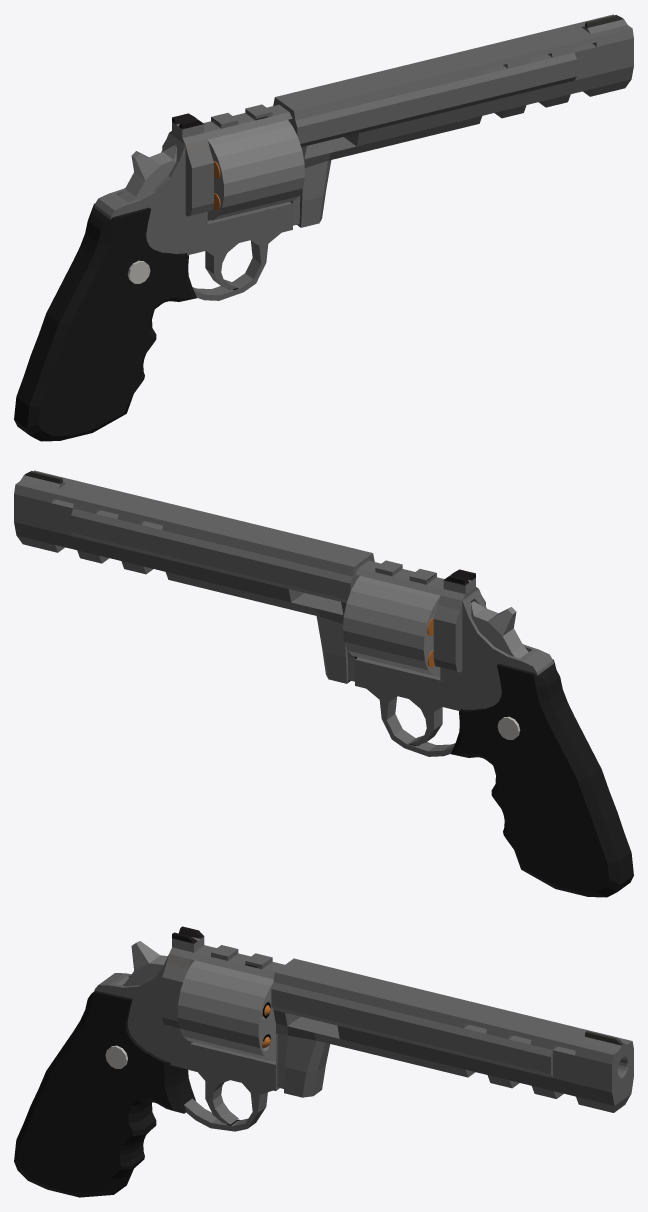
File: revolver.fbx
3 renders of one model, top to bottom at view 1: azimuth 30°, elevation 25°; view 2: azimuth 150°, elevation 25°; view 3: azimuth 330°, elevation 25°, orthographic.
Visible parts, largest first — view 1: ferro, tambor, ferro.001; view 2: ferro, tambor, ferro.001; view 3: ferro, tambor, ferro.001.
Part boxes in pixels (x1,y1,x2,y2): ferro: (14, 14, 633, 441); tambor: (207, 120, 304, 220); ferro.001: (119, 145, 176, 202); ferro: (14, 470, 633, 897); tambor: (343, 576, 440, 676); ferro.001: (471, 601, 528, 658); ferro: (14, 926, 633, 1197); tambor: (177, 960, 275, 1060); ferro.001: (122, 941, 167, 986).
Size of the model in its own units: 437 by 197 by 58.44.
